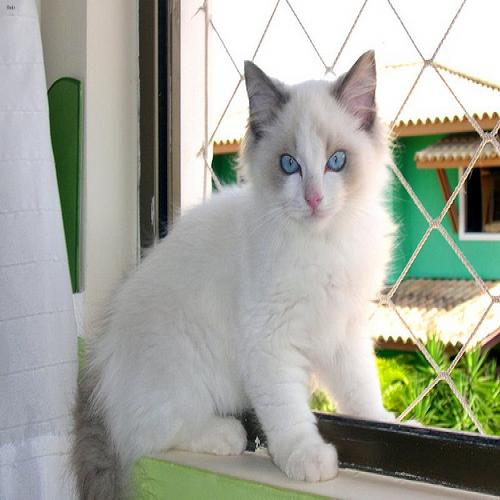ragdoll: (233, 40, 392, 239)
